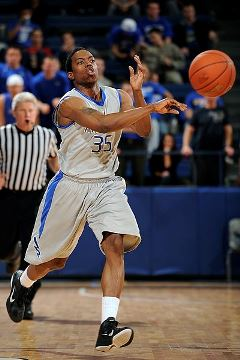ball: (183, 49, 240, 101)
